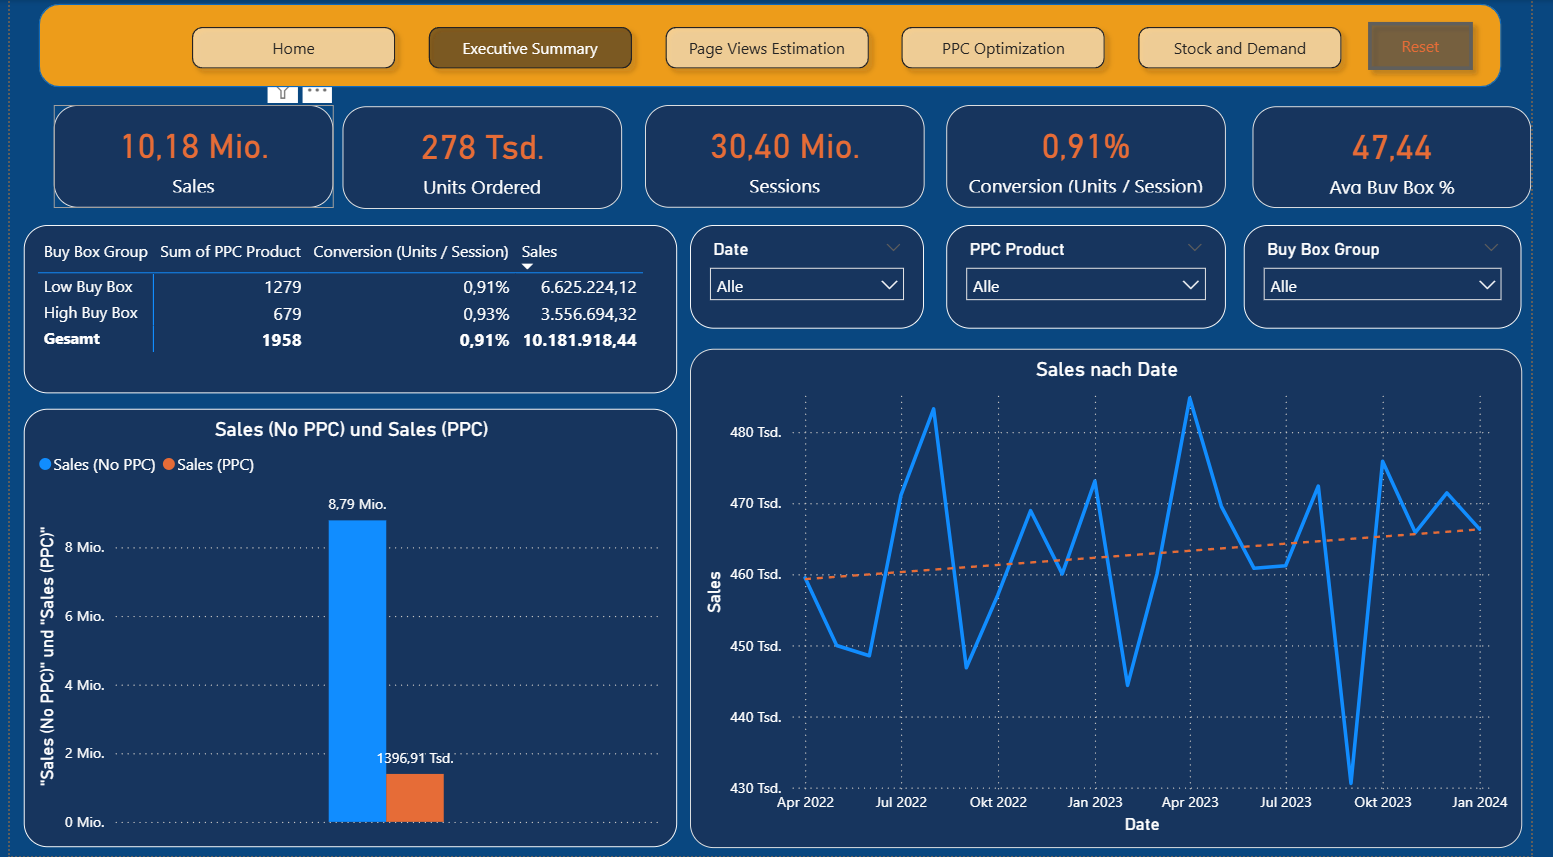

This screenshot's page, from the dashboard's own definition file:
{"tool":"powerbi","page":{"name":"Executive Summary","canvas":[1280,720],"ordinal":1},"visuals":[{"type":"card","fields":{"Values":["Core KPI’lar.Sales"]},"box":[37,88.8,235,86],"z":0},{"type":"card","fields":{"Values":["Core KPI’lar.Units Ordered"]},"box":[279.2,88.9,235,86.2],"z":1000},{"type":"card","fields":{"Values":["Core KPI’lar.Sessions"]},"box":[533.6,88.8,235,86],"z":2000},{"type":"card","fields":{"Values":["Core KPI’lar.Conversion (Units / Session)"]},"box":[787.1,88.8,234.9,86],"z":3000},{"type":"card","fields":{"Values":["Core KPI’lar.Avg Buy Box %"]},"box":[1045.4,89.4,234.6,86],"z":4000},{"type":"lineChart","fields":{"Category":["DimDate.Date.Variation.Date Hierarchy.Month"],"Y":["Core KPI’lar.Sales"]},"box":[571.6,293.2,700.1,419.9],"z":5000},{"type":"clusteredColumnChart","fields":{"Y":["Segment KPI’ları (PPC / Buy Box grupları).Sales (No PPC)","Segment KPI’ları (PPC / Buy Box grupları).Sales (PPC)"]},"box":[11.1,344,549.4,369],"z":6000},{"type":"pivotTable","fields":{"Rows":["final_fact.buy_box_group"],"Values":["Sum(final_fact.ppc_product)","Core KPI’lar.Conversion (Units / Session)","Core KPI’lar.Sales"]},"box":[11.1,189.6,549.4,141.5],"z":7000},{"type":"slicer","fields":{"Values":["DimDate.Date.Variation.Date Hierarchy.Month"]},"box":[571.6,189.6,197,86.9],"z":8000},{"type":"slicer","fields":{"Values":["final_fact.ppc_product"]},"box":[787.1,189.6,234.9,86.9],"z":9000},{"type":"slicer","fields":{"Values":["final_fact.buy_box_group"]},"box":[1037.7,189.6,234,86.9],"z":10000},{"type":"shape","box":[24,3.6,1230.2,70.2],"z":11000},{"type":"pageNavigator","box":[144.5,13.5,989.3,53.9],"z":13000},{"type":"actionButton","box":[1133.9,9,105.9,58.4],"z":14000}]}

Visuals, with their boxes in screenshot pixels (x1, y1, x2, y2), scaled from the page's 1280x720 canvas onto the 1553x857 screenshot:
card - Core KPI’lar.Sales: (left=45, top=106, right=330, bottom=208)
card - Core KPI’lar.Units Ordered: (left=339, top=106, right=624, bottom=208)
card - Core KPI’lar.Sessions: (left=647, top=106, right=933, bottom=208)
card - Core KPI’lar.Conversion (Units / Session): (left=955, top=106, right=1240, bottom=208)
card - Core KPI’lar.Avg Buy Box %: (left=1268, top=106, right=1552, bottom=209)
lineChart - DimDate.Date.Variation.Date Hierarchy.Month x Core KPI’lar.Sales: (left=694, top=349, right=1543, bottom=849)
clusteredColumnChart - Segment KPI’ları (PPC / Buy Box grupları).Sales (No PPC) x Segment KPI’ları (PPC / Buy Box grupları).Sales (PPC): (left=13, top=409, right=680, bottom=849)
pivotTable - final_fact.buy_box_group x Sum(final_fact.ppc_product): (left=13, top=226, right=680, bottom=394)
slicer - DimDate.Date.Variation.Date Hierarchy.Month: (left=694, top=226, right=933, bottom=329)
slicer - final_fact.ppc_product: (left=955, top=226, right=1240, bottom=329)
slicer - final_fact.buy_box_group: (left=1259, top=226, right=1543, bottom=329)
shape: (left=29, top=4, right=1522, bottom=88)
pageNavigator: (left=175, top=16, right=1376, bottom=80)
actionButton: (left=1376, top=11, right=1504, bottom=80)
